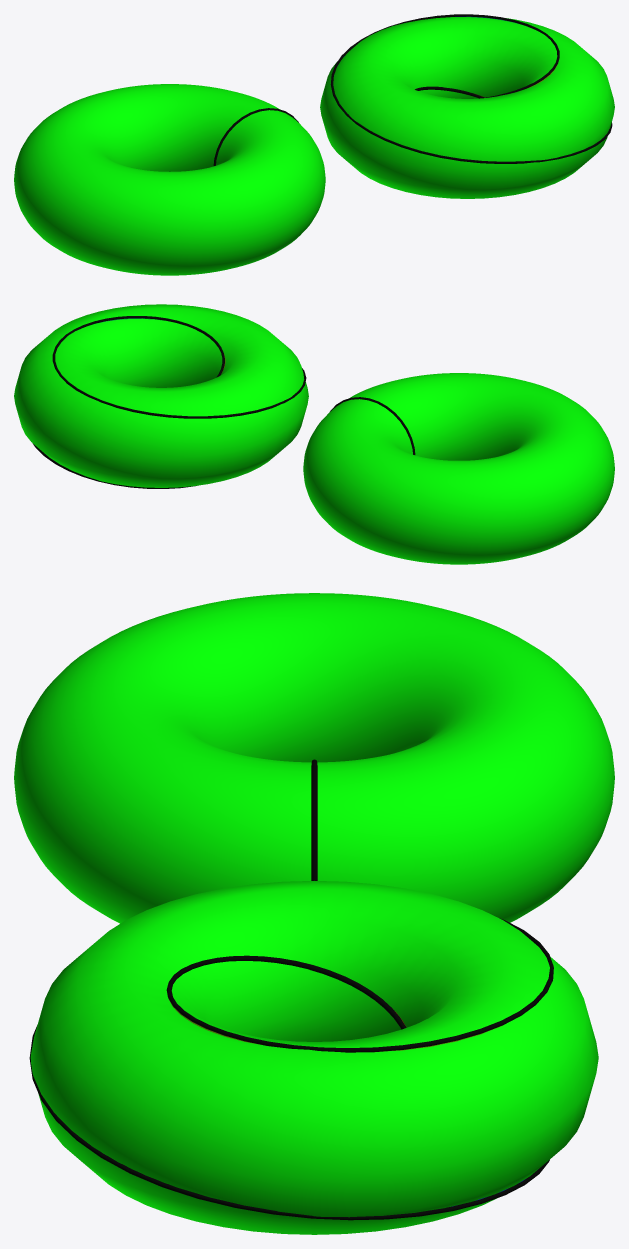
Rendered from l3_1_norm.glb.
3 views of the same model, one above another, from view 1: azimuth 30°, elevation 25°; view 2: azimuth 150°, elevation 25°; view 3: azimuth 270°, elevation 25° (orthographic). The views are drawn at different scales.
Visible parts, largest first — view 1: T1, Torus, boundary; view 2: T1, Torus, boundary; view 3: Torus, T1, boundary, meridional curve.
Part boxes in pixels (<box>): T1: <box>14,84,325,275</box>; Torus: <box>320,16,614,198</box>; boundary: <box>330,14,612,163</box>; T1: <box>303,373,614,564</box>; Torus: <box>14,304,308,487</box>; boundary: <box>32,316,306,488</box>; Torus: <box>30,881,598,1234</box>; T1: <box>14,593,614,923</box>; boundary: <box>29,918,553,1220</box>; meridional curve: <box>311,759,317,880</box>.
Size of the model in its own units: 6.23 by 1.03 by 3.
